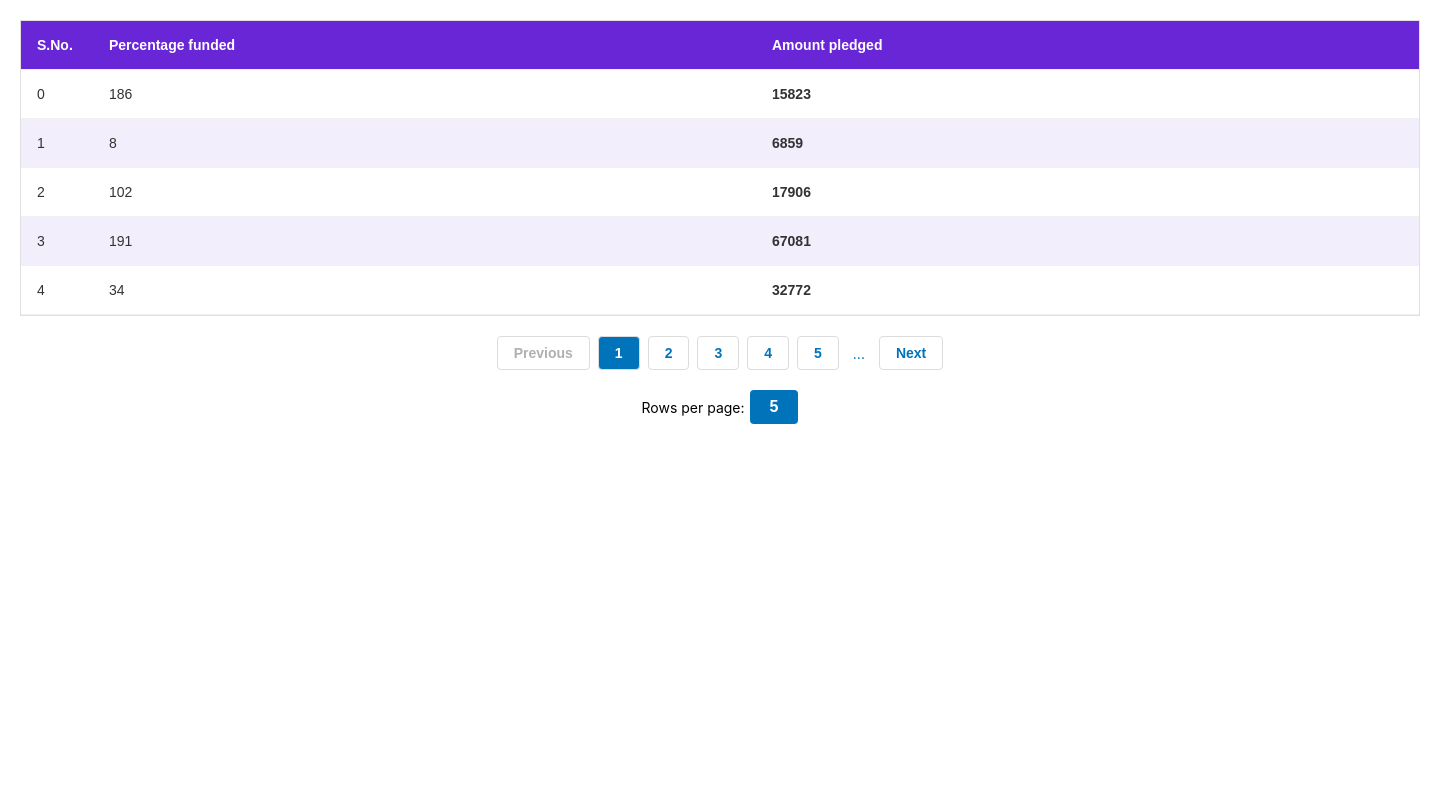
it: Test 8 On Selecting DropDown No of Rows are chaning
The image size is (1440, 810).
Expected: the number of rows is 6, [21,21,1419,70]; [21,70,1419,119]; [21,119,1419,168]; [21,168,1419,217]; [21,217,1419,266]; [21,266,1419,315]
Click the button with test id "open-modal" at (774, 407), box [750,390,798,424]
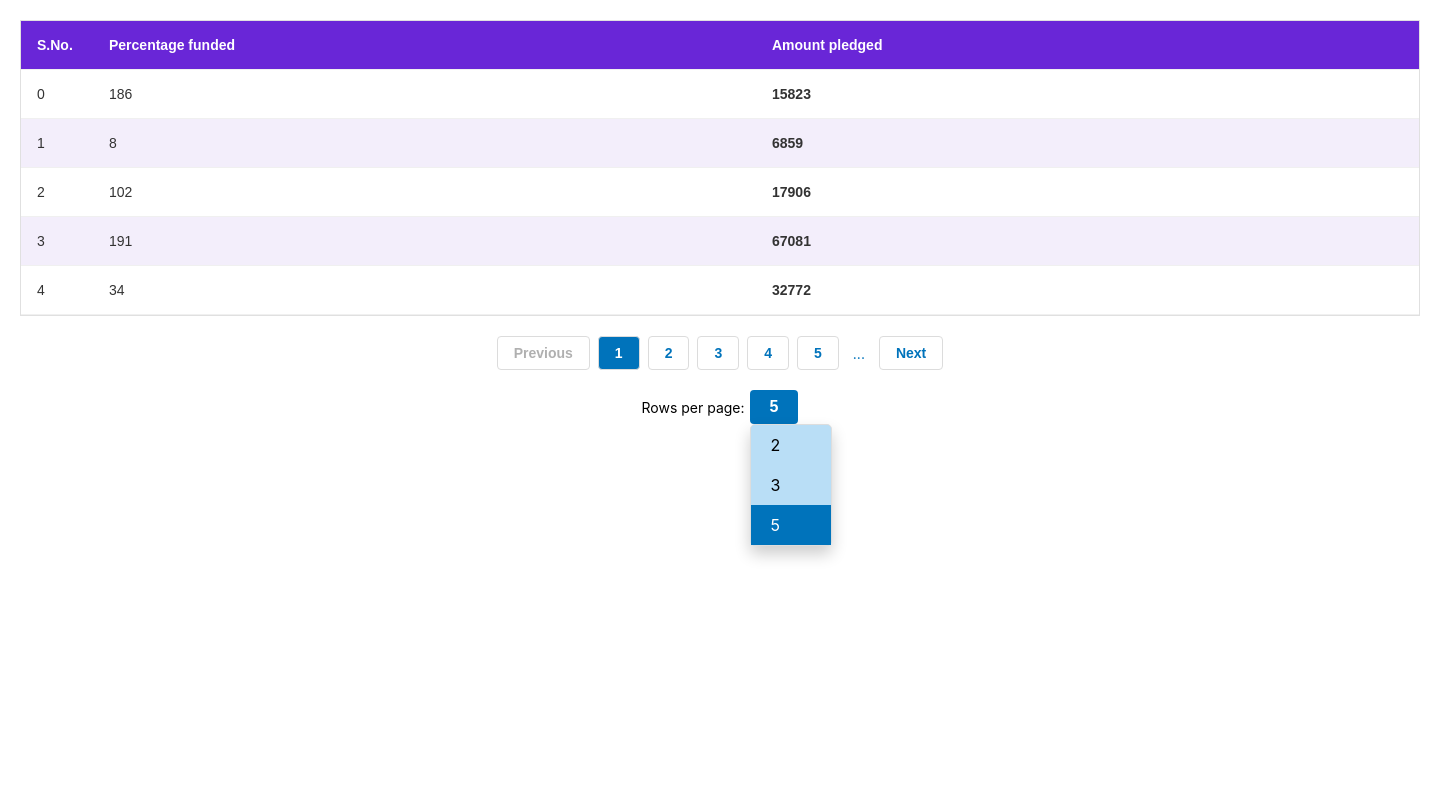
Expected: the menu is shown, [750,424,832,546]
Expected: the menu item with test id "option-2" is shown
Click the menu item with test id "option-2" at (776, 445), box [771,435,780,455]
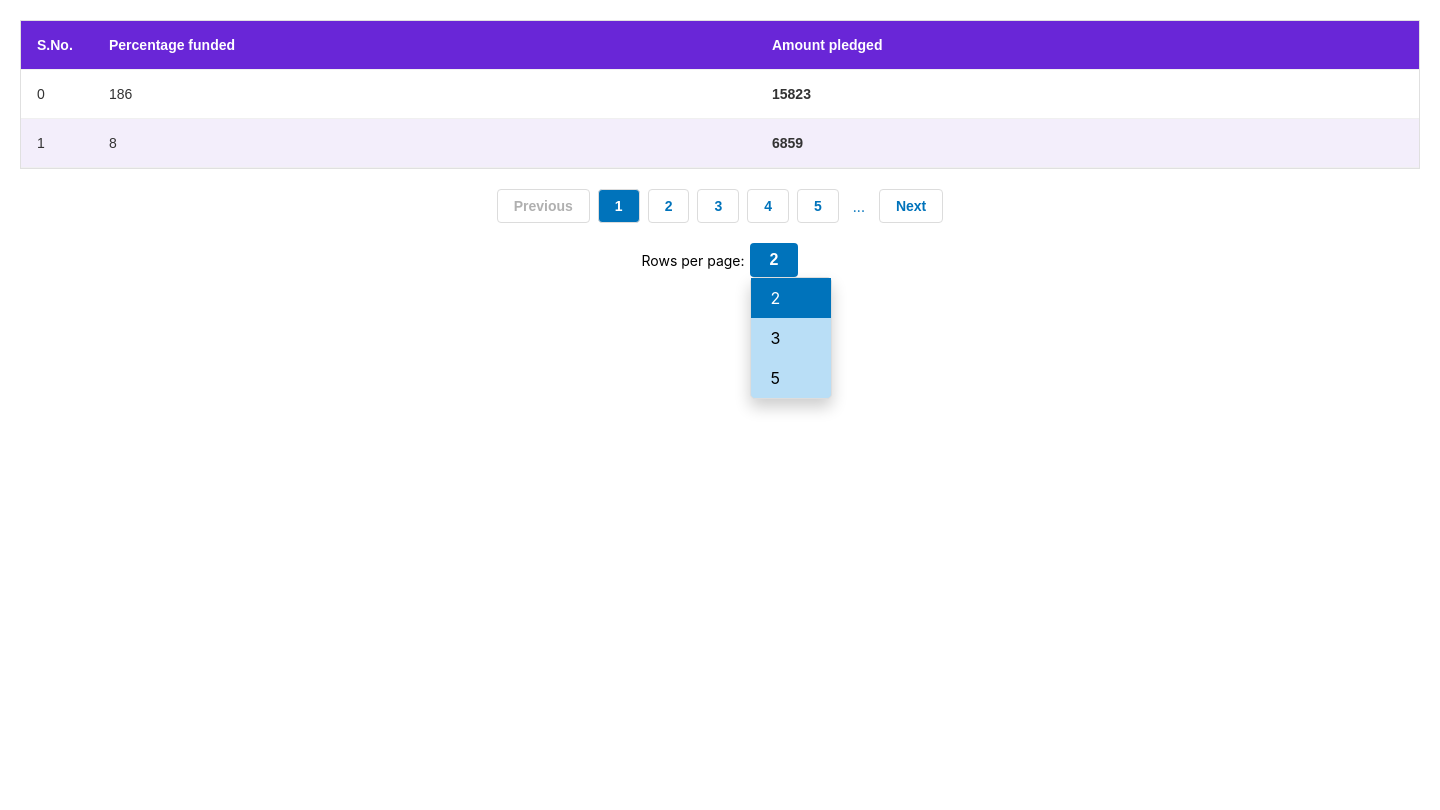
Expected: the number of rows is 3, [21,21,1419,70]; [21,70,1419,119]; [21,119,1419,168]
